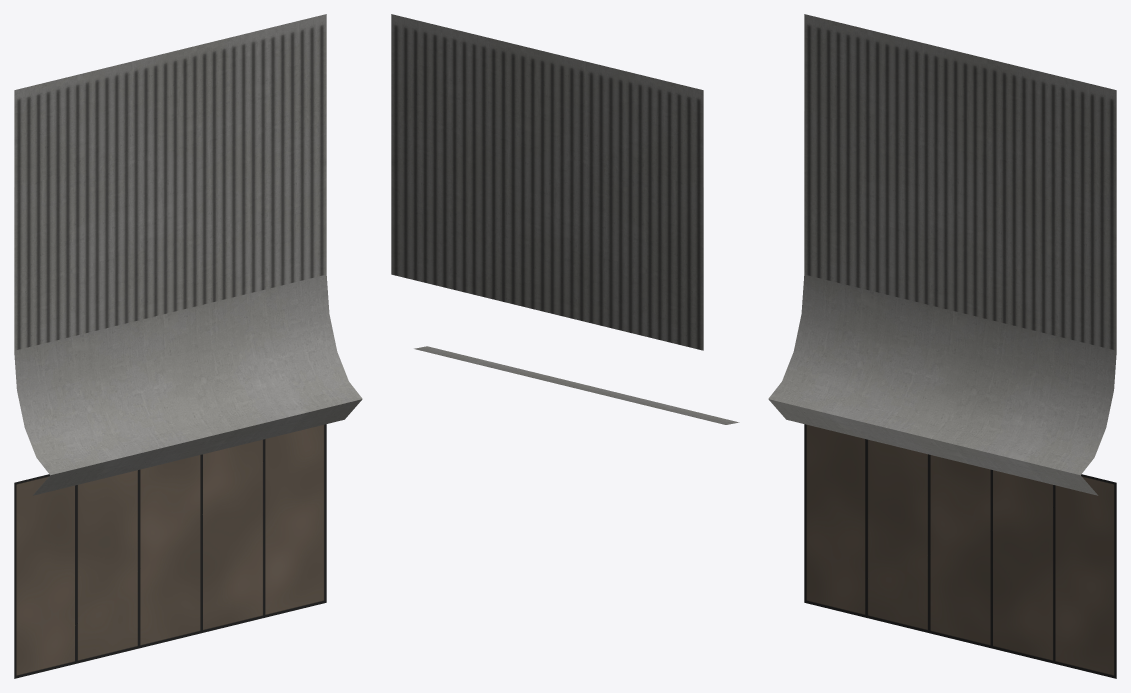
File: middle.gltf
The picture shows the model from 3 angles, left to right: view 1: azimuth 30°, elevation 25°; view 2: azimuth 150°, elevation 25°; view 3: azimuth 330°, elevation 25°; orthographic projection.
Visible parts, largest first — view 1: middle; view 2: middle; view 3: middle.
Part boxes in pixels (x1,y1,x2,y2): middle: (14,14,362,678); middle: (391,14,739,424); middle: (768,14,1116,678).
Size of the model in its own units: 5 by 9 by 1.
Materials: 3 (3 with a texture image).
